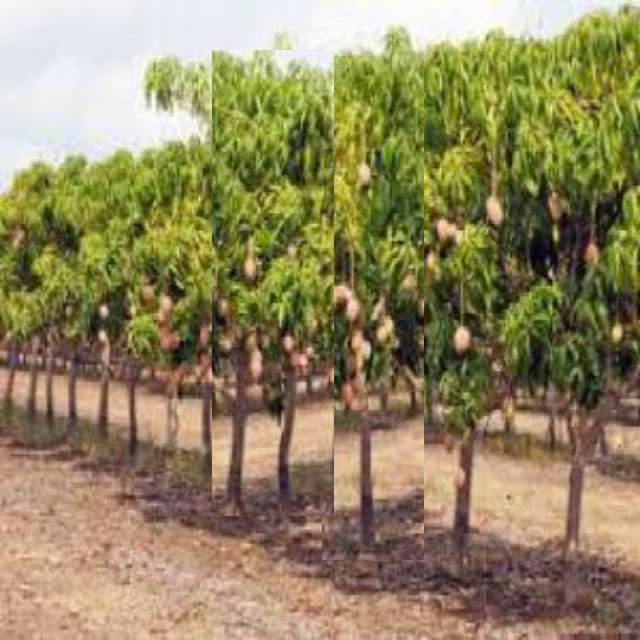tree: (416, 18, 558, 588), (212, 50, 334, 516), (322, 22, 424, 560)
